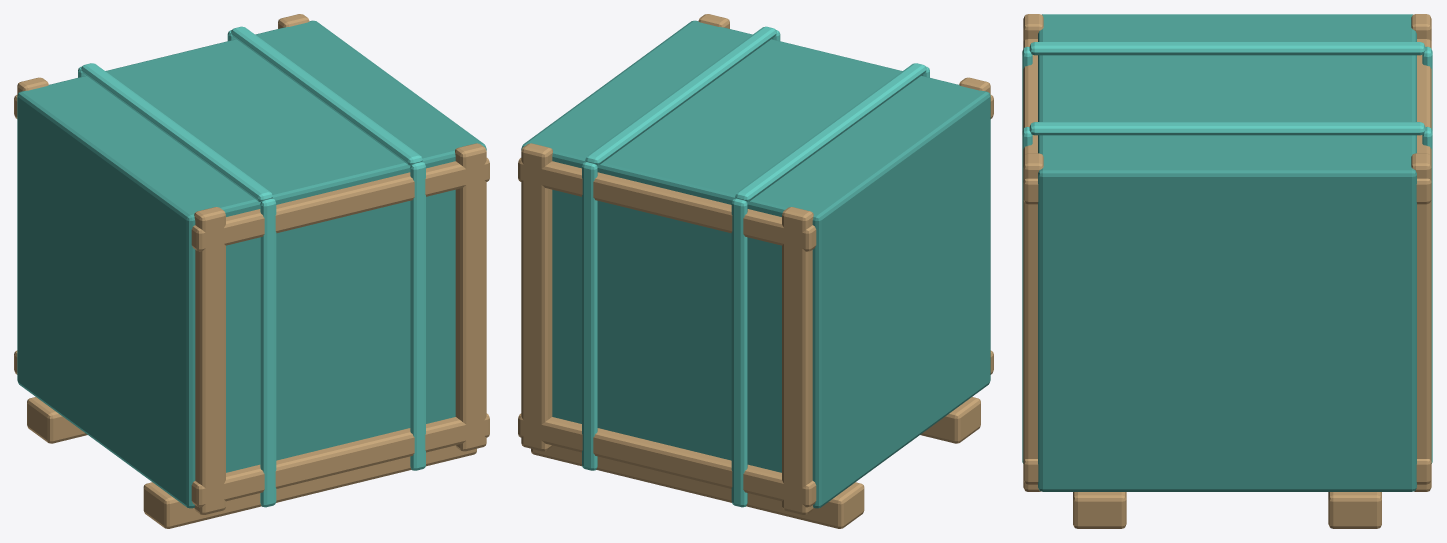
The model's file is freight_first.glb.
The picture shows the model from 3 angles, left to right: view 1: azimuth 30°, elevation 25°; view 2: azimuth 150°, elevation 25°; view 3: azimuth 270°, elevation 25°; orthographic projection. The views are drawn at different scales.
Visible parts, largest first — view 1: Freight_first; view 2: Freight_first; view 3: Freight_first.
Boxes of the visible parts, <box> form: Freight_first: <box>14,14,489,528</box>; Freight_first: <box>518,14,993,528</box>; Freight_first: <box>1022,14,1432,528</box>.
Bounding box in the file's own units: 0.96 × 0.9725 × 0.995.
